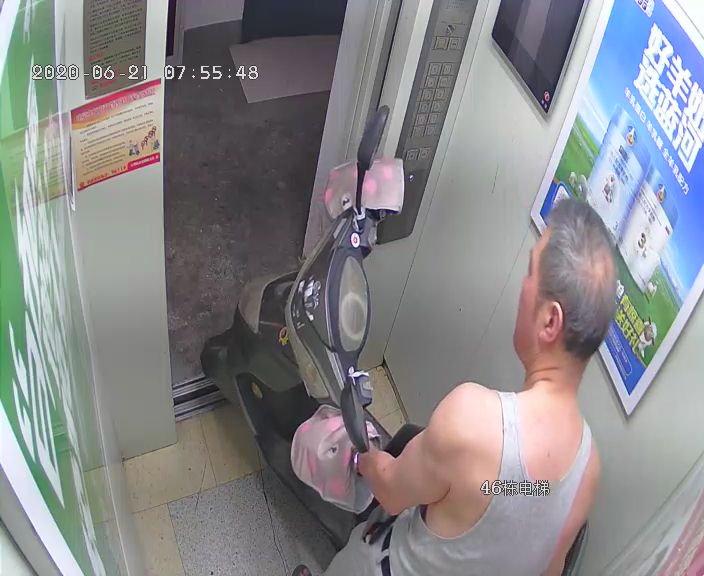Electric-bicycle: (206, 107, 428, 530)
